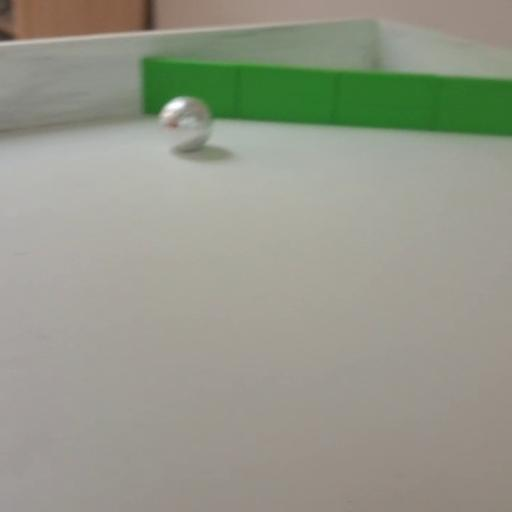alive: (156, 94, 213, 152)
